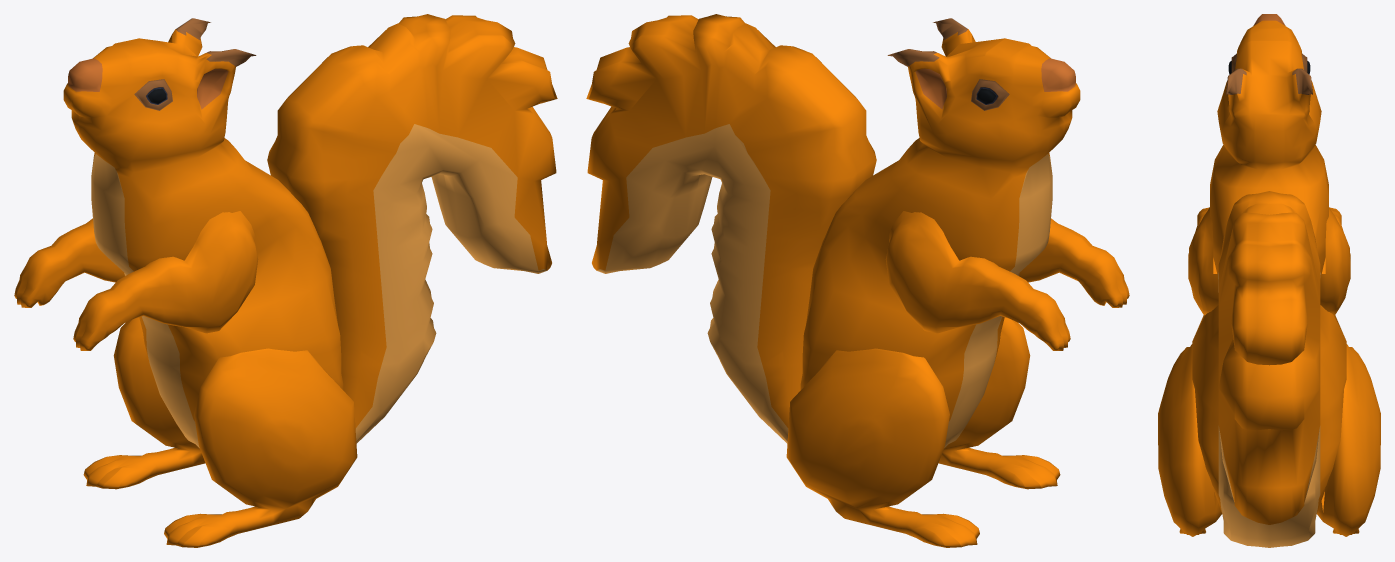
The model's file is vjeverica2.fbx.
3 views of the same model, side by side, from view 1: azimuth 30°, elevation 25°; view 2: azimuth 150°, elevation 25°; view 3: azimuth 270°, elevation 25° (orthographic). The views are drawn at different scales.
Visible parts, largest first — view 1: Vjeverica; view 2: Vjeverica; view 3: Vjeverica.
Boxes of the visible parts, x1=… form: Vjeverica: x1=14, y1=14, x2=557, y2=547; Vjeverica: x1=586, y1=14, x2=1129, y2=547; Vjeverica: x1=1158, y1=14, x2=1380, y2=547.
Bounding box in the file's own units: 496 × 440 × 200.
